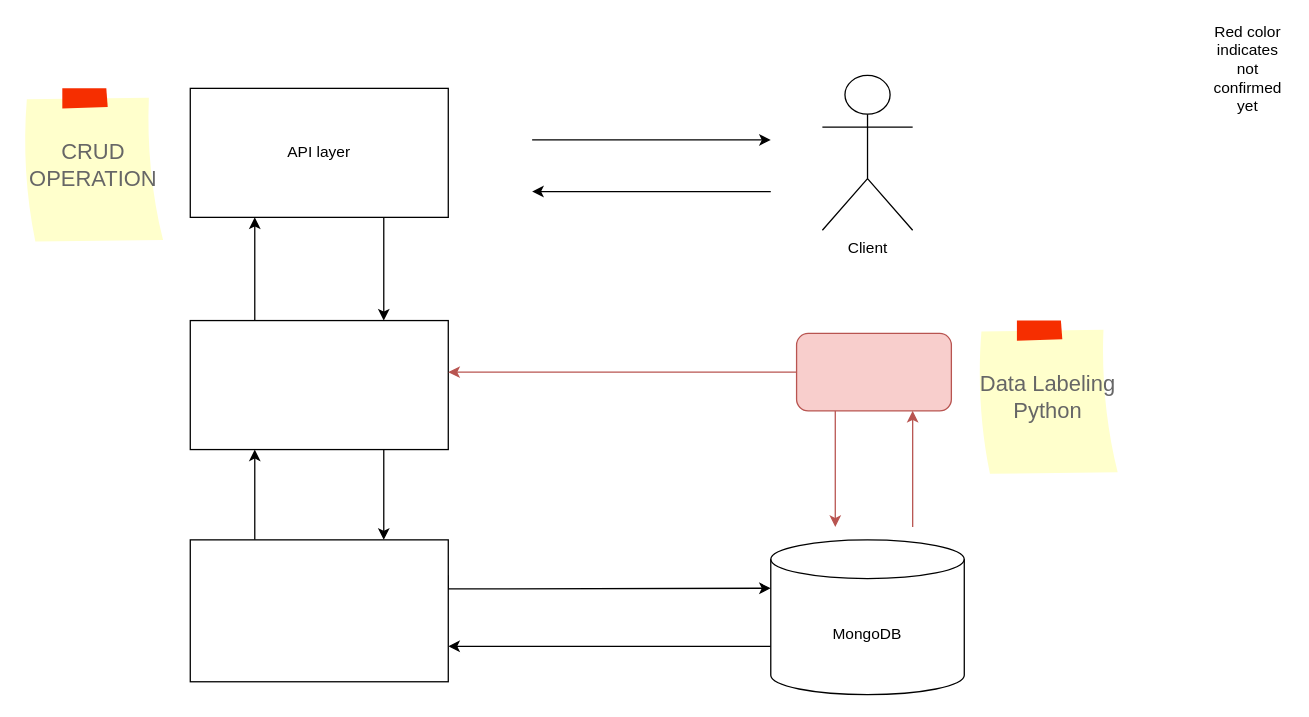
Image size: 1309x717. Some labels were removed from this diagram. The centre of each missing label's shape, as x and y in pixels:
"3rd Party API" goes at point (873, 371).
"Data Access Layer" goes at point (318, 610).
"Service Layer" goes at point (318, 384).
